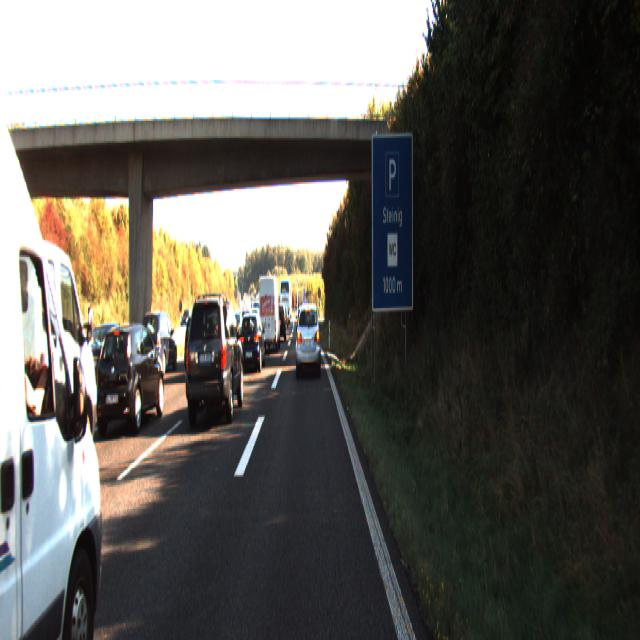Car: (0, 73, 121, 638), (0, 226, 102, 542), (184, 292, 245, 428), (96, 318, 166, 436), (140, 309, 178, 375), (186, 309, 222, 375), (295, 300, 321, 377), (257, 273, 280, 352), (238, 310, 265, 371), (273, 302, 286, 341)
